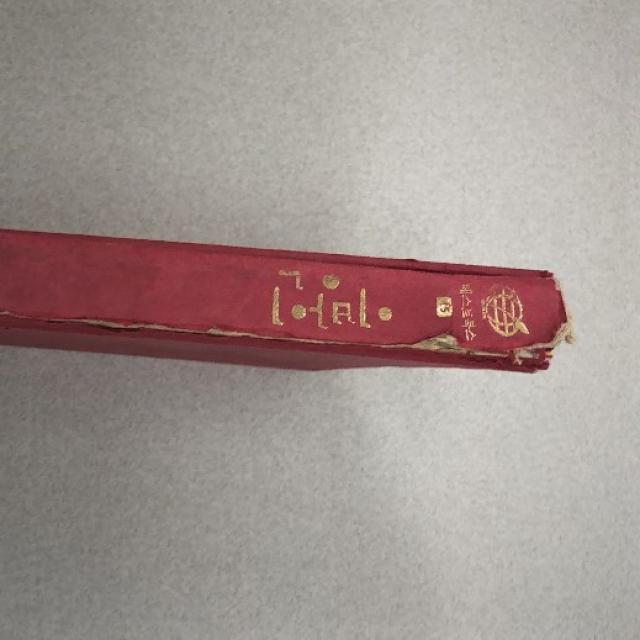Ripped: (0, 308, 579, 383), (368, 250, 569, 311)
